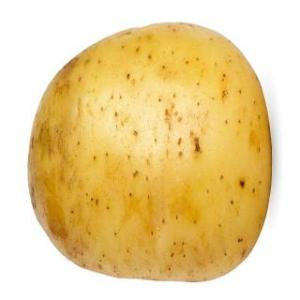potato: (27, 23, 270, 281)
